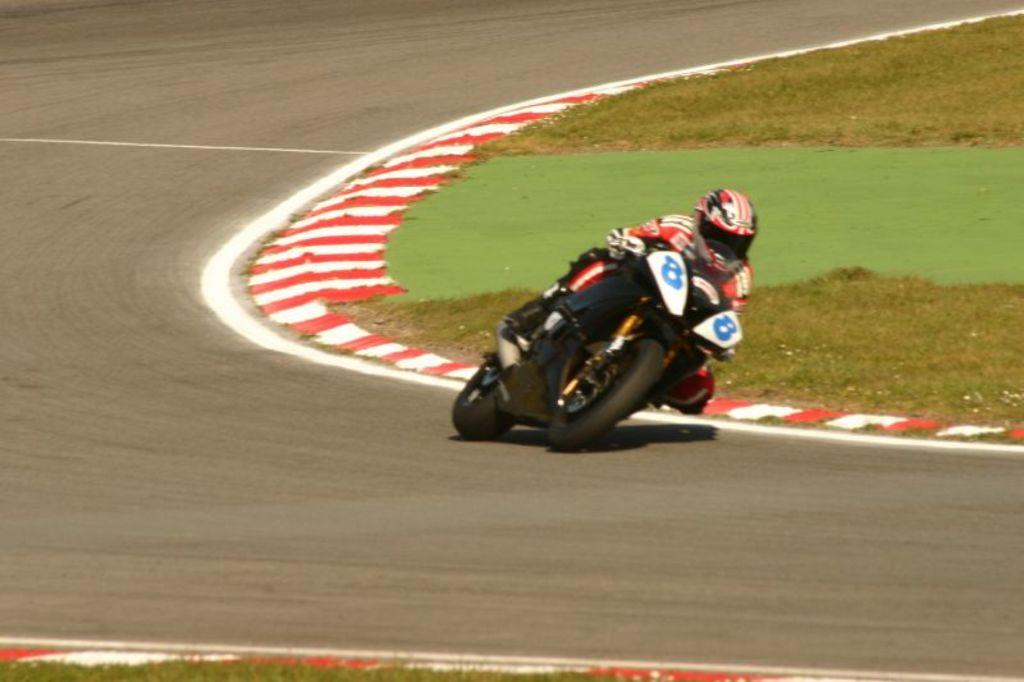helmet: (694, 188, 757, 277)
